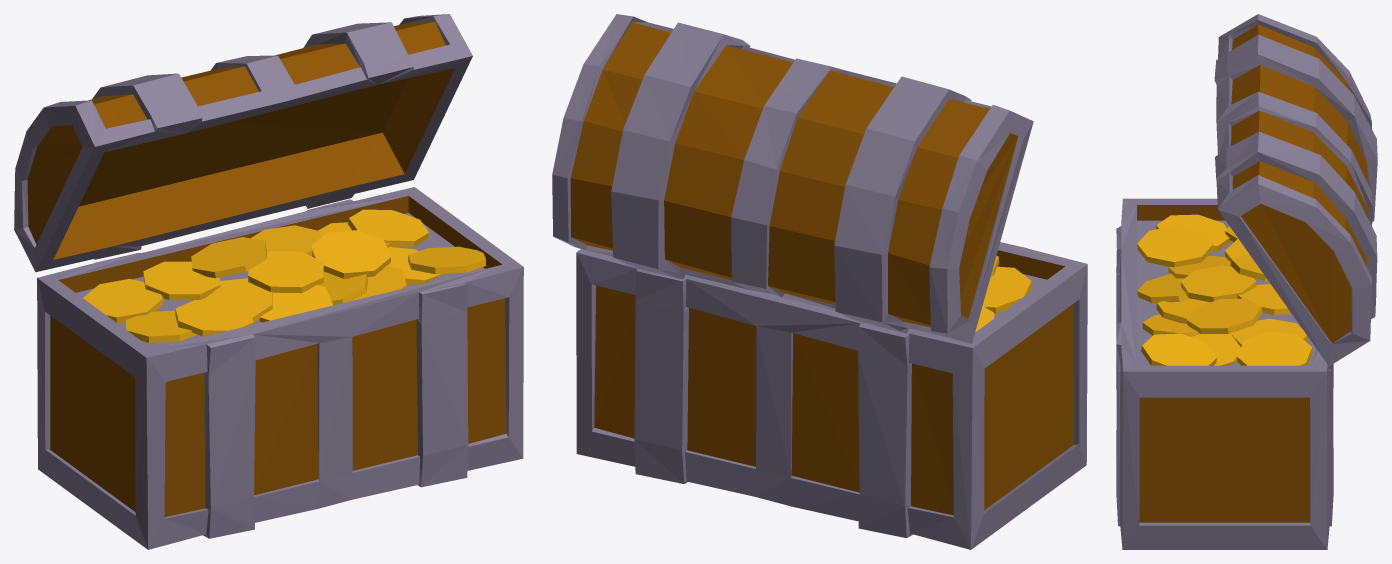
Rendered from Chest_opened_01.fbx.
The picture shows the model from 3 angles, left to right: view 1: azimuth 30°, elevation 25°; view 2: azimuth 150°, elevation 25°; view 3: azimuth 270°, elevation 25°; orthographic projection. The views are drawn at different scales.
Visible parts, largest first — view 1: Chest_opened_01; view 2: Chest_opened_01; view 3: Chest_opened_01.
Boxes of the visible parts, left/top/right/bottom form: Chest_opened_01: left=14, top=14, right=523, bottom=549; Chest_opened_01: left=552, top=14, right=1087, bottom=549; Chest_opened_01: left=1116, top=14, right=1377, bottom=549.
Bounding box in the file's own units: 842 × 849 × 536.
